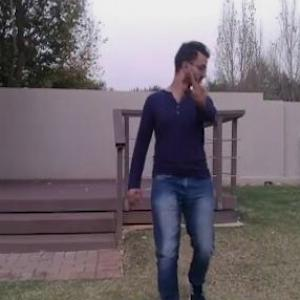takeoff-hand: (177, 54, 211, 103)
